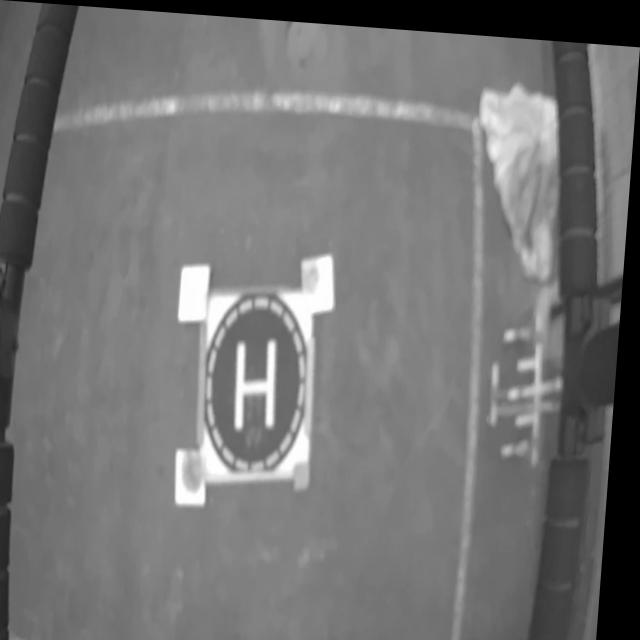Helipad: (241, 335, 282, 427)
